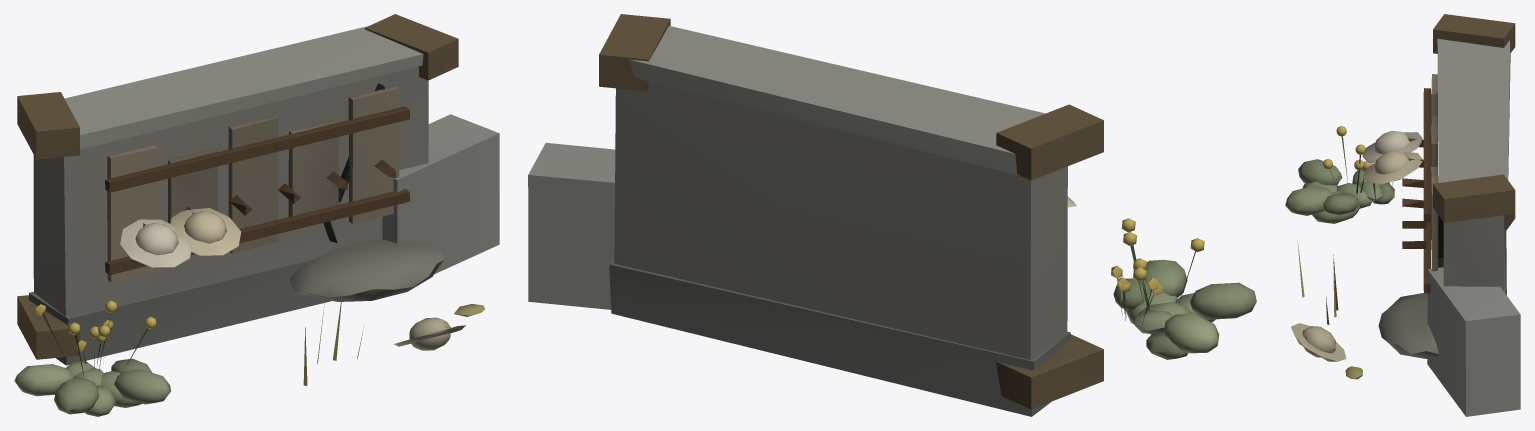
File: hardhat_rack_c_lod1.glb
3 views of the same model, side by side, from view 1: azimuth 30°, elevation 25°; view 2: azimuth 150°, elevation 25°; view 3: azimuth 270°, elevation 25° (orthographic). The views are drawn at different scales.
Visible parts, largest first — view 1: Surface.001; view 2: Surface.001; view 3: Surface.001.
Boxes of the visible parts, x1,y1,x2,y2 form: Surface.001: (14,14,499,416); Surface.001: (528,14,1256,416); Surface.001: (1285,14,1520,416).
Size of the model in its own units: 5.97 by 2.61 by 2.66.
